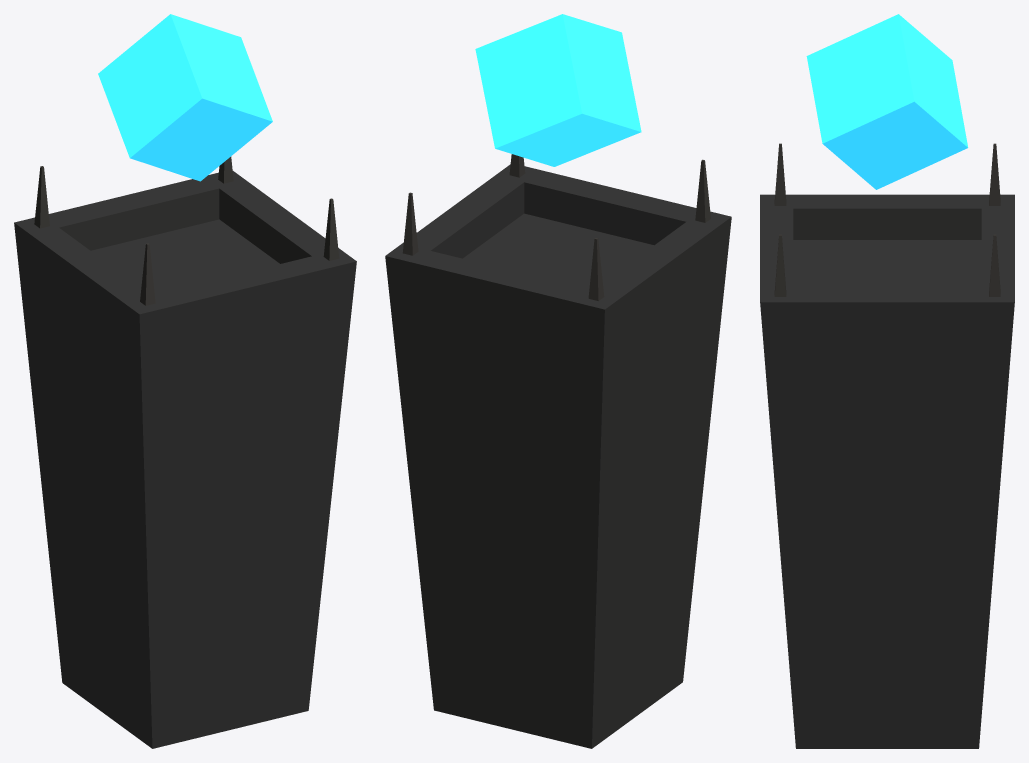
File: altar.glb
The picture shows the model from 3 angles, left to right: view 1: azimuth 30°, elevation 25°; view 2: azimuth 150°, elevation 25°; view 3: azimuth 270°, elevation 25°; orthographic projection.
Visible parts, largest first — view 1: Cube, Cube.006, Cube.003, Cube.004, Cube.005; view 2: Cube, Cube.006, Cube.004, Cube.002, Cube.003; view 3: Cube, Cube.006, Cube.004, Cube.005, Cube.002, Cube.003.
Part boxes in pixels (x1,y1,x2,y2): Cube: (14, 171, 356, 748); Cube.006: (98, 14, 272, 181); Cube.003: (34, 166, 49, 228); Cube.004: (140, 243, 155, 305); Cube.005: (323, 198, 339, 260); Cube: (385, 164, 731, 748); Cube.006: (475, 14, 641, 166); Cube.004: (695, 159, 710, 222); Cube.002: (402, 192, 418, 255); Cube.003: (588, 238, 604, 300); Cube: (760, 194, 1014, 748); Cube.006: (806, 14, 968, 189); Cube.004: (774, 143, 786, 205); Cube.005: (774, 234, 786, 296); Cube.002: (989, 234, 1000, 296); Cube.003: (989, 143, 1000, 205).
Size of the model in its own units: 1 by 2.99 by 1.
